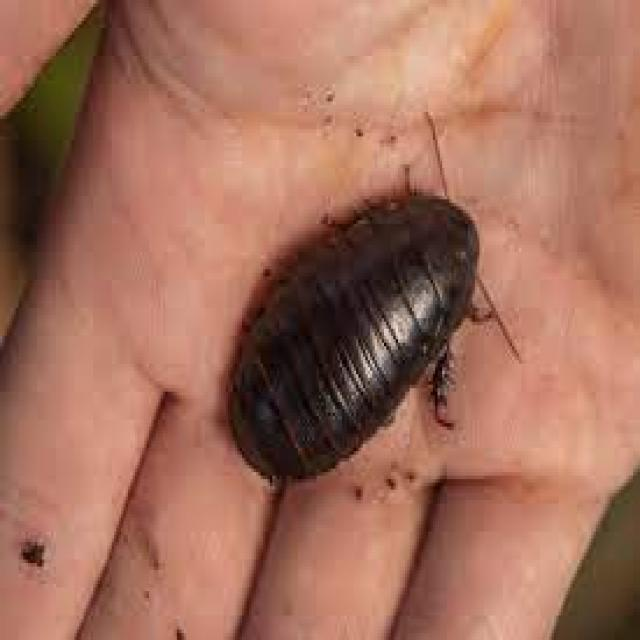Cockroach: (217, 91, 531, 498)
